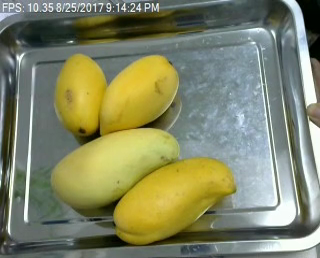Mango: (112, 153, 237, 243), (49, 127, 181, 209), (96, 55, 178, 140), (50, 49, 107, 138)
